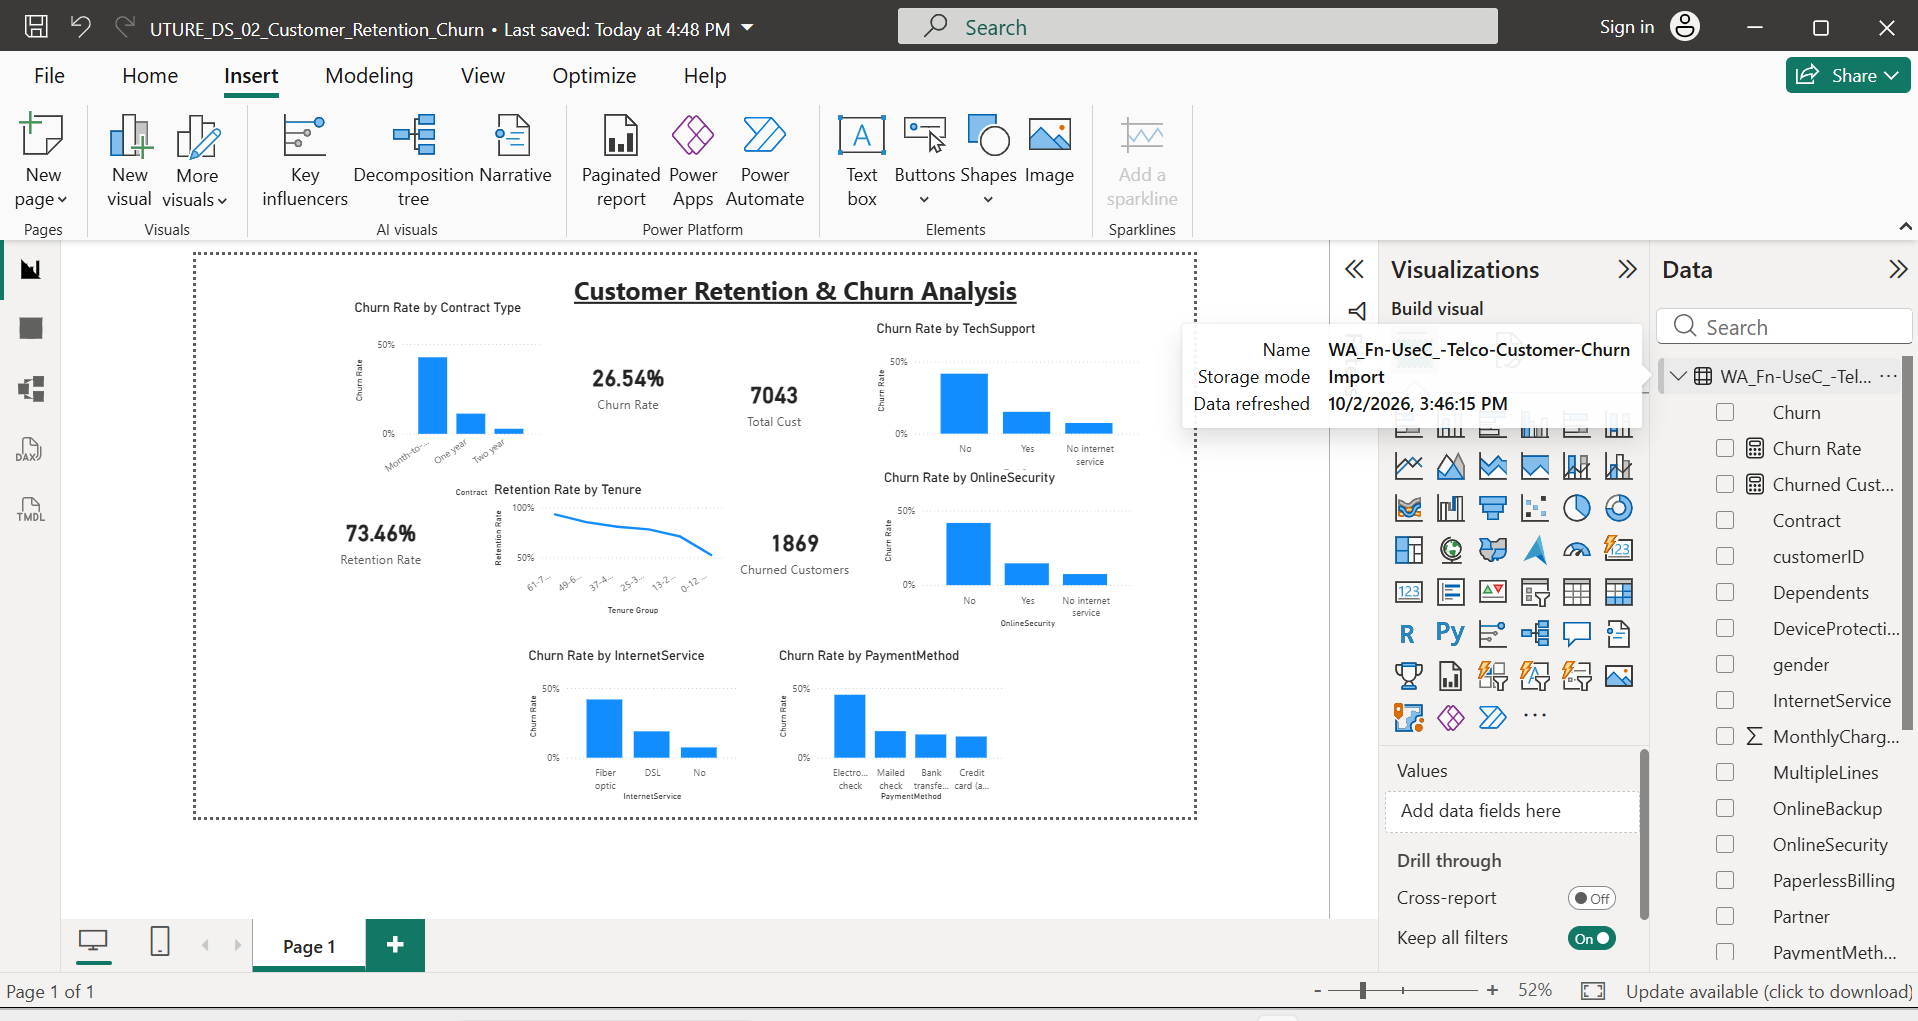

What the dashboard file says about the page in this screenshot:
{"tool":"powerbi","page":{"name":"Page 1","canvas":[1280,720],"ordinal":0},"visuals":[{"type":"card","fields":{"Values":["WA_Fn-UseC_-Telco-Customer-Churn.Total Cust"]},"box":[660.4,91.7,162.5,191.7],"z":0},{"type":"card","fields":{"Values":["WA_Fn-UseC_-Telco-Customer-Churn.Churned Customers"]},"box":[681.2,289.6,172.9,175],"z":1},{"type":"card","fields":{"Values":["WA_Fn-UseC_-Telco-Customer-Churn.Churn Rate"]},"box":[466.7,91.7,172.9,147.9],"z":2},{"type":"card","fields":{"Values":["WA_Fn-UseC_-Telco-Customer-Churn.Retention Rate"]},"box":[150,289.6,172.9,150],"z":3},{"type":"clusteredColumnChart","title":"Churn Rate by Contract Type","fields":{"Category":["WA_Fn-UseC_-Telco-Customer-Churn.Contract"],"Y":["WA_Fn-UseC_-Telco-Customer-Churn.Churn Rate"]},"box":[197.9,58.3,247.9,256.2],"z":4},{"type":"lineChart","title":"Retention Rate by Tenure","fields":{"Category":["WA_Fn-UseC_-Telco-Customer-Churn.Tenure Group"],"Y":["WA_Fn-UseC_-Telco-Customer-Churn.Retention Rate"]},"box":[377.1,289.6,304.2,175],"z":5},{"type":"clusteredColumnChart","fields":{"Category":["WA_Fn-UseC_-Telco-Customer-Churn.InternetService"],"Y":["WA_Fn-UseC_-Telco-Customer-Churn.Churn Rate"]},"box":[421.4,504.6,277.8,200.3],"z":6},{"type":"textbox","box":[446,0,644.4,141.7],"z":7},{"type":"clusteredColumnChart","fields":{"Category":["WA_Fn-UseC_-Telco-Customer-Churn.TechSupport"],"Y":["WA_Fn-UseC_-Telco-Customer-Churn.Churn Rate"]},"box":[867.4,85,347.7,204.1],"z":8},{"type":"clusteredColumnChart","fields":{"Category":["WA_Fn-UseC_-Telco-Customer-Churn.OnlineSecurity"],"Y":["WA_Fn-UseC_-Telco-Customer-Churn.Churn Rate"]},"box":[876.9,275.9,328.8,207.9],"z":9},{"type":"clusteredColumnChart","fields":{"Category":["WA_Fn-UseC_-Telco-Customer-Churn.PaymentMethod"],"Y":["WA_Fn-UseC_-Telco-Customer-Churn.Churn Rate"]},"box":[742.7,504.6,298.6,200.3],"z":10}]}

Visuals, with their boxes on the page's 1280x720 design canvas (x1, y1, x2, y2). These are canvas units, not pixel positions in the 1918x1021 screenshot, which may show the page scaled, cropped or inside an application window:
card - WA_Fn-UseC_-Telco-Customer-Churn.Total Cust: [left=660, top=92, right=823, bottom=283]
card - WA_Fn-UseC_-Telco-Customer-Churn.Churned Customers: [left=681, top=290, right=854, bottom=465]
card - WA_Fn-UseC_-Telco-Customer-Churn.Churn Rate: [left=467, top=92, right=640, bottom=240]
card - WA_Fn-UseC_-Telco-Customer-Churn.Retention Rate: [left=150, top=290, right=323, bottom=440]
"Churn Rate by Contract Type" clusteredColumnChart: [left=198, top=58, right=446, bottom=314]
"Retention Rate by Tenure" lineChart: [left=377, top=290, right=681, bottom=465]
clusteredColumnChart - WA_Fn-UseC_-Telco-Customer-Churn.InternetService x WA_Fn-UseC_-Telco-Customer-Churn.Churn Rate: [left=421, top=505, right=699, bottom=705]
textbox: [left=446, top=0, right=1090, bottom=142]
clusteredColumnChart - WA_Fn-UseC_-Telco-Customer-Churn.TechSupport x WA_Fn-UseC_-Telco-Customer-Churn.Churn Rate: [left=867, top=85, right=1215, bottom=289]
clusteredColumnChart - WA_Fn-UseC_-Telco-Customer-Churn.OnlineSecurity x WA_Fn-UseC_-Telco-Customer-Churn.Churn Rate: [left=877, top=276, right=1206, bottom=484]
clusteredColumnChart - WA_Fn-UseC_-Telco-Customer-Churn.PaymentMethod x WA_Fn-UseC_-Telco-Customer-Churn.Churn Rate: [left=743, top=505, right=1041, bottom=705]
